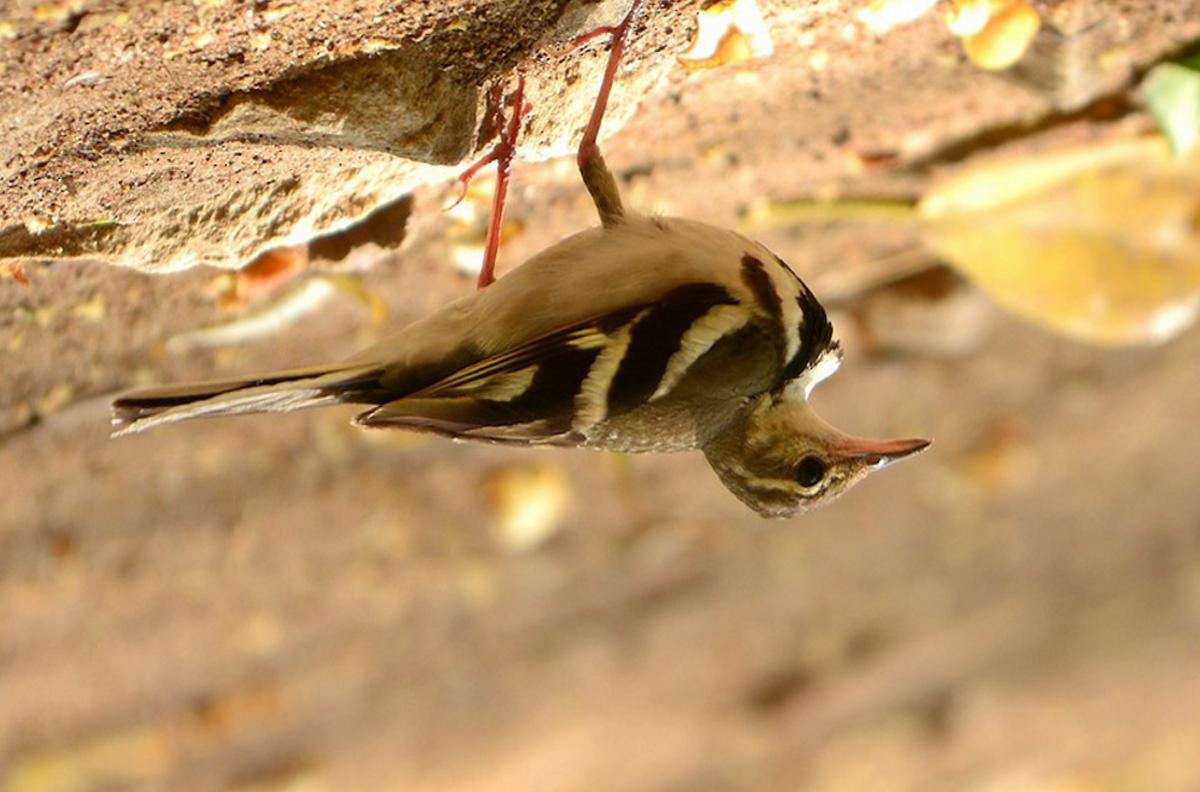wagtail: (290, 222, 928, 518)
